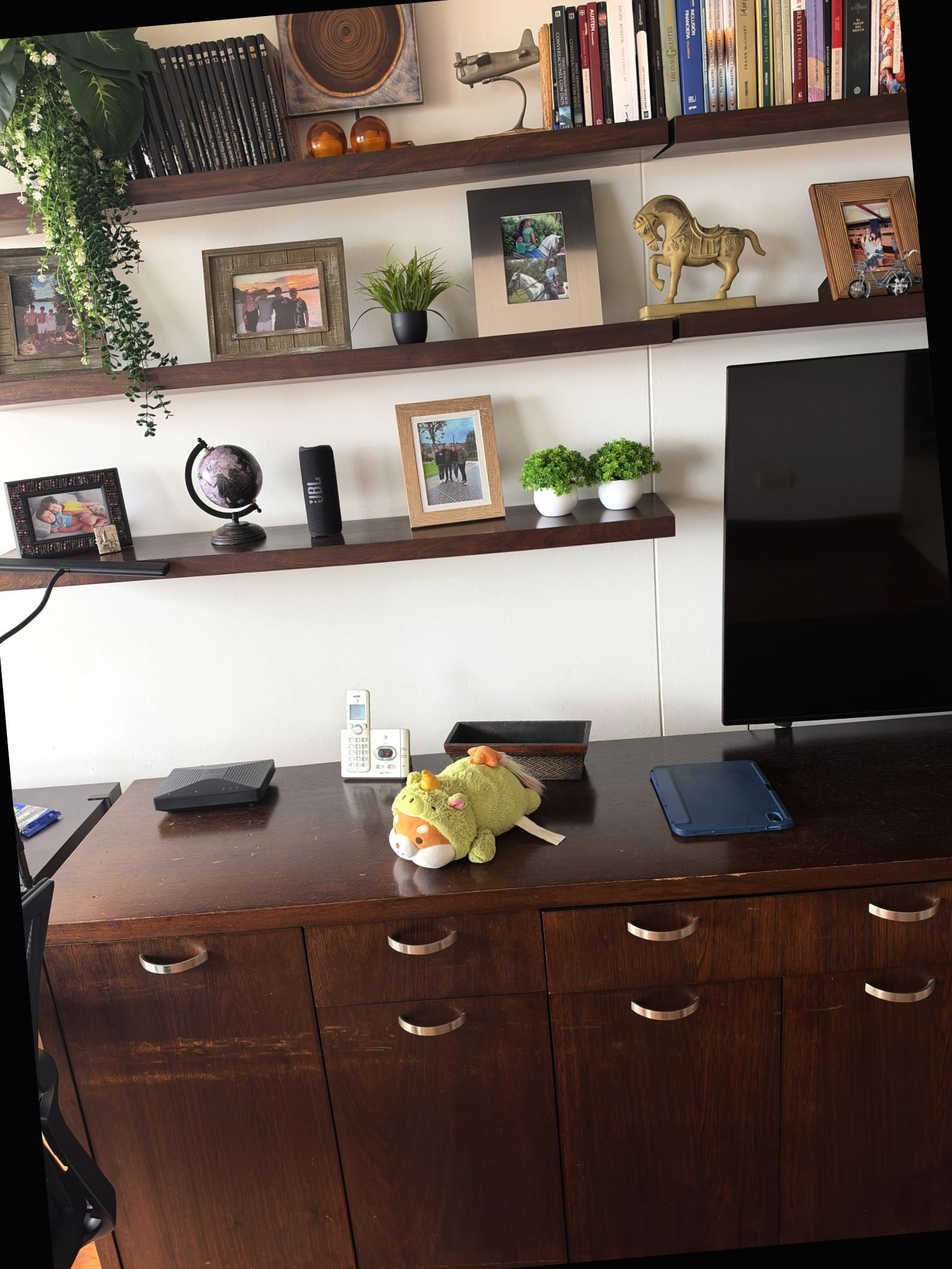peluche_martin: (381, 739, 569, 873)
